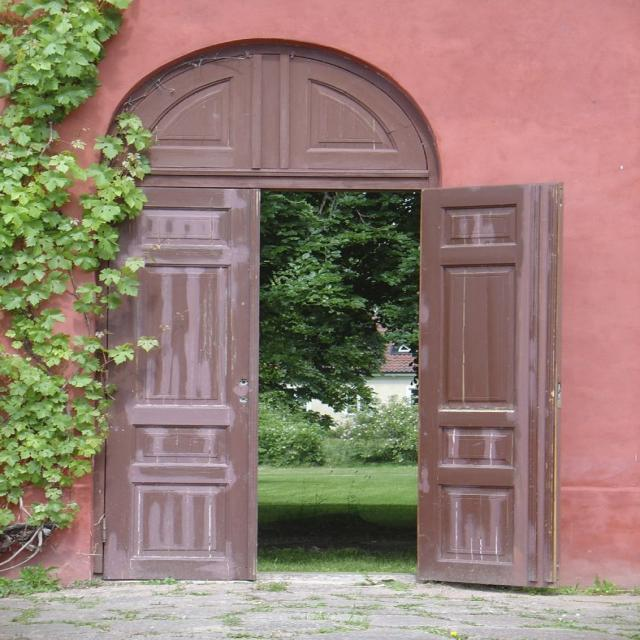open: (92, 184, 558, 588)
